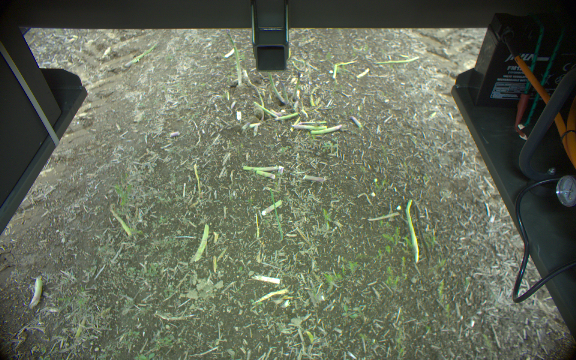aspa: (403, 199, 424, 261), (223, 33, 244, 87), (189, 224, 211, 264), (107, 209, 131, 239), (23, 278, 43, 308), (251, 100, 279, 120), (309, 123, 347, 137), (290, 70, 304, 106), (260, 198, 283, 218), (291, 121, 326, 134), (267, 71, 281, 103), (240, 162, 283, 171), (275, 110, 301, 122), (347, 114, 362, 131), (280, 81, 291, 103), (353, 67, 370, 79), (302, 174, 327, 181), (255, 170, 274, 179)
